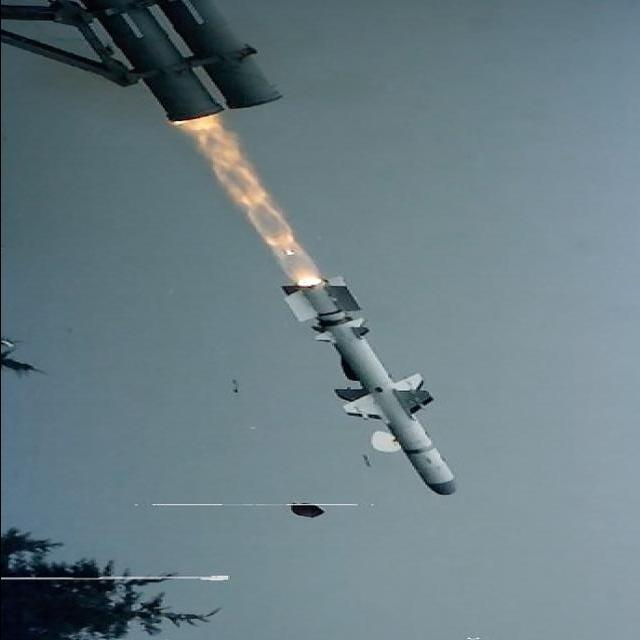missile: (281, 253, 472, 508)
